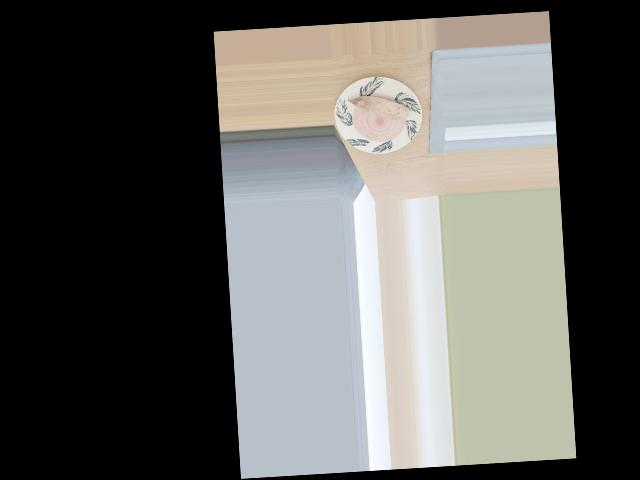sweet_potato: (352, 88, 407, 125)
